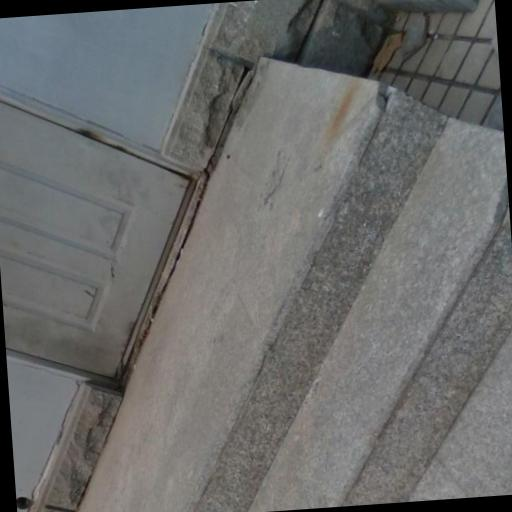stairs: (81, 59, 511, 511)
